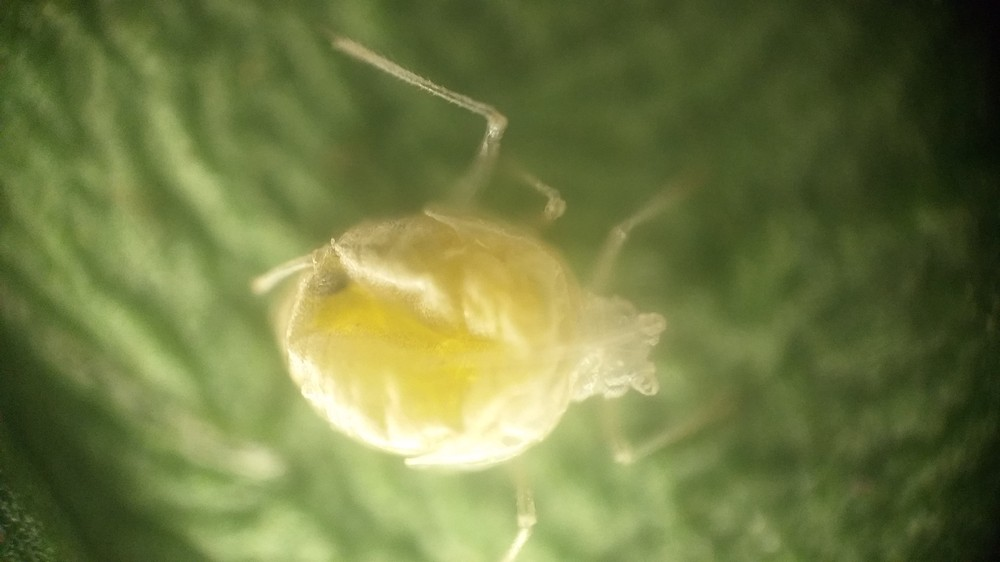Pulgon: (229, 37, 770, 558)
